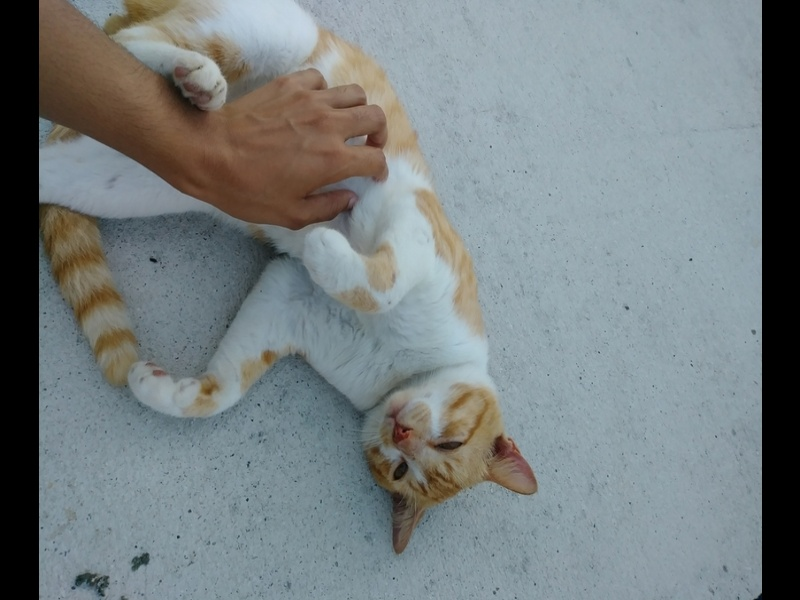cat: (45, 8, 543, 560)
